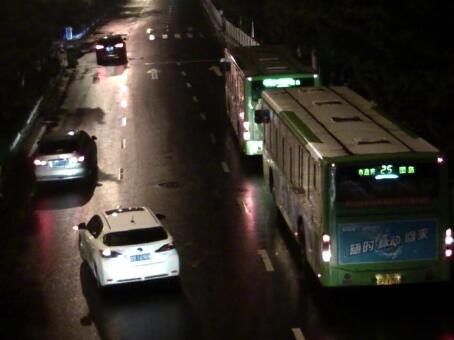bus: (251, 86, 451, 288), (218, 43, 321, 160)
car: (75, 207, 182, 293), (29, 127, 98, 186), (94, 34, 125, 64)
